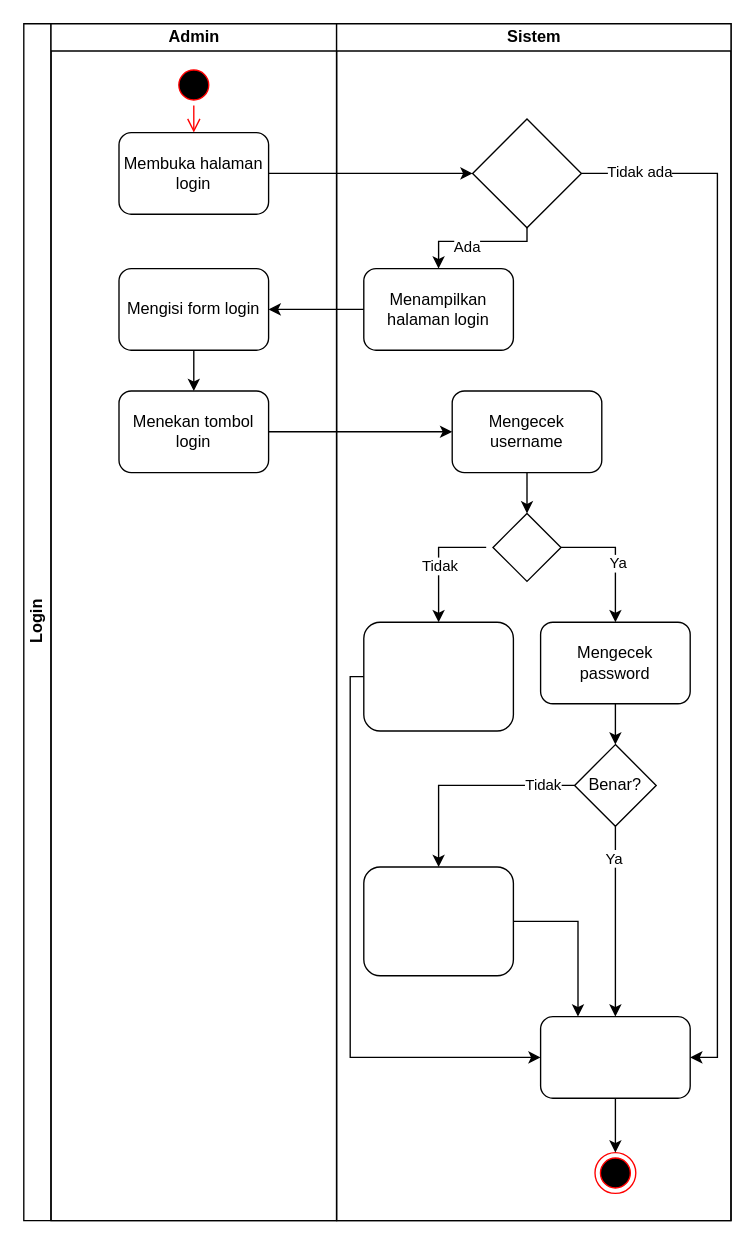
Some shapes in this 755 by 1244 pixel diagram are drawn without their labels. The shapes that lost their labels are listed below. From the top down, each one's centre as x and y in pixels, then its label:
At pixel 526 173: "Cek session".
At pixel 526 546: "Ada?".
At pixel 437 676: "Kembali ke halaman login dengan pesan username tidak ada".
At pixel 437 921: "Kembali ke halaman login dengan pesan password salah".
At pixel 614 1056: "Menampilkan halaman dashboard admin".
